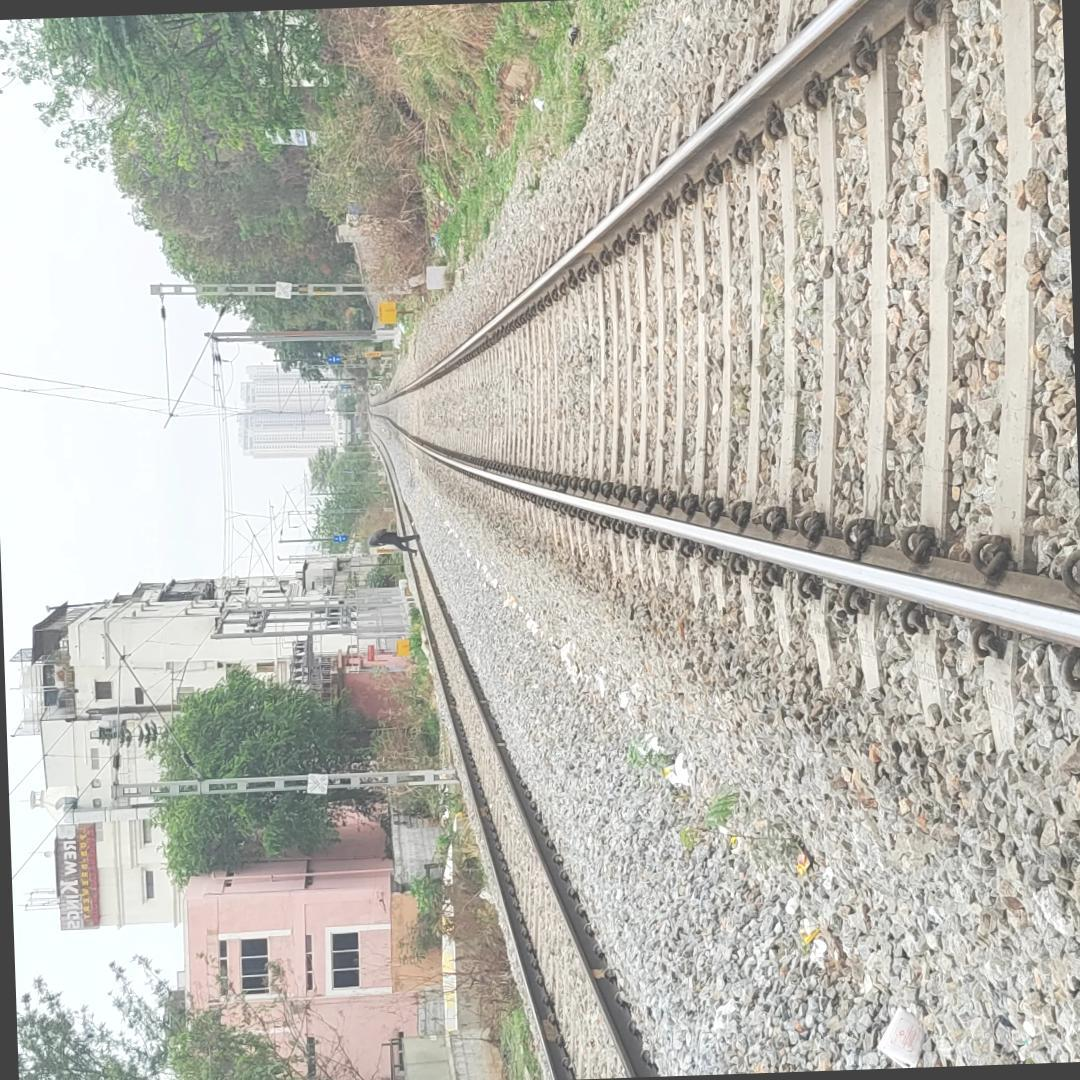standing: (353, 523, 441, 564)
track: (366, 0, 1080, 780)
